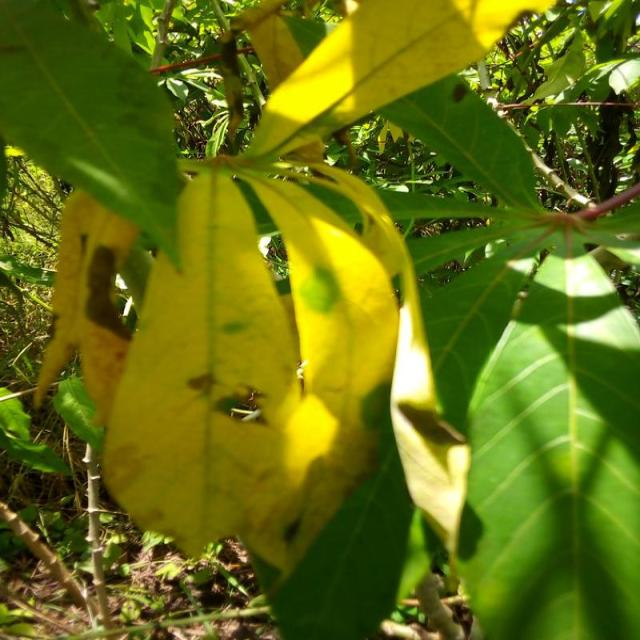cassava leaf: (99, 158, 403, 589), (452, 247, 638, 638), (243, 0, 555, 164), (0, 0, 185, 271)
